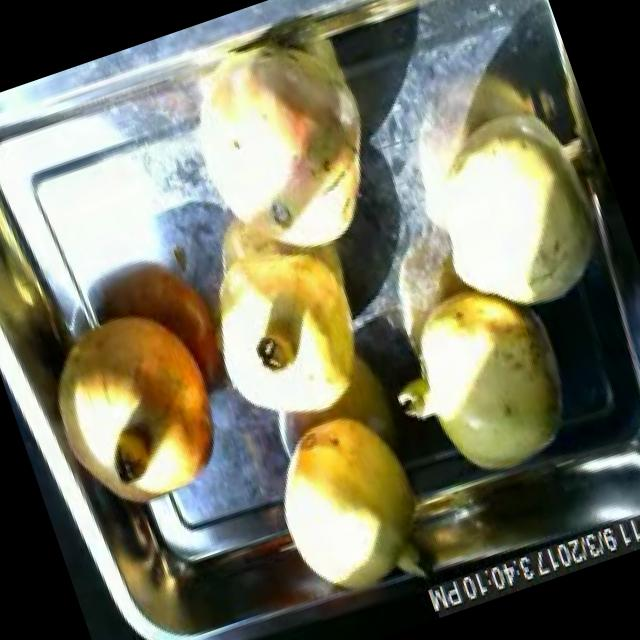fruit: (156, 4, 409, 294), (392, 71, 640, 341), (359, 253, 594, 504), (27, 282, 247, 530), (249, 386, 450, 616), (184, 224, 390, 443)
